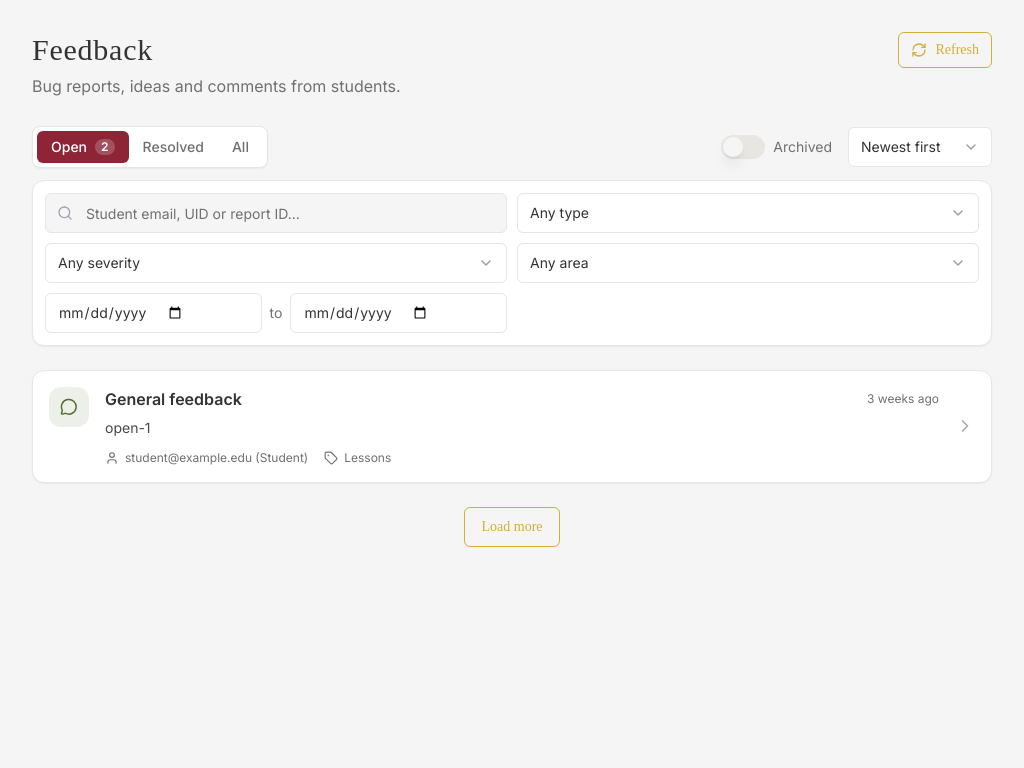
Test: the Refresh button reloads page one even after "Load more"
The width and height of the screenshot is (1024, 768).
Expected: the text "open-1" is shown, [105,419,150,436]
Click the button "Load more". click: [512, 527]
box: [464,507,560,547]
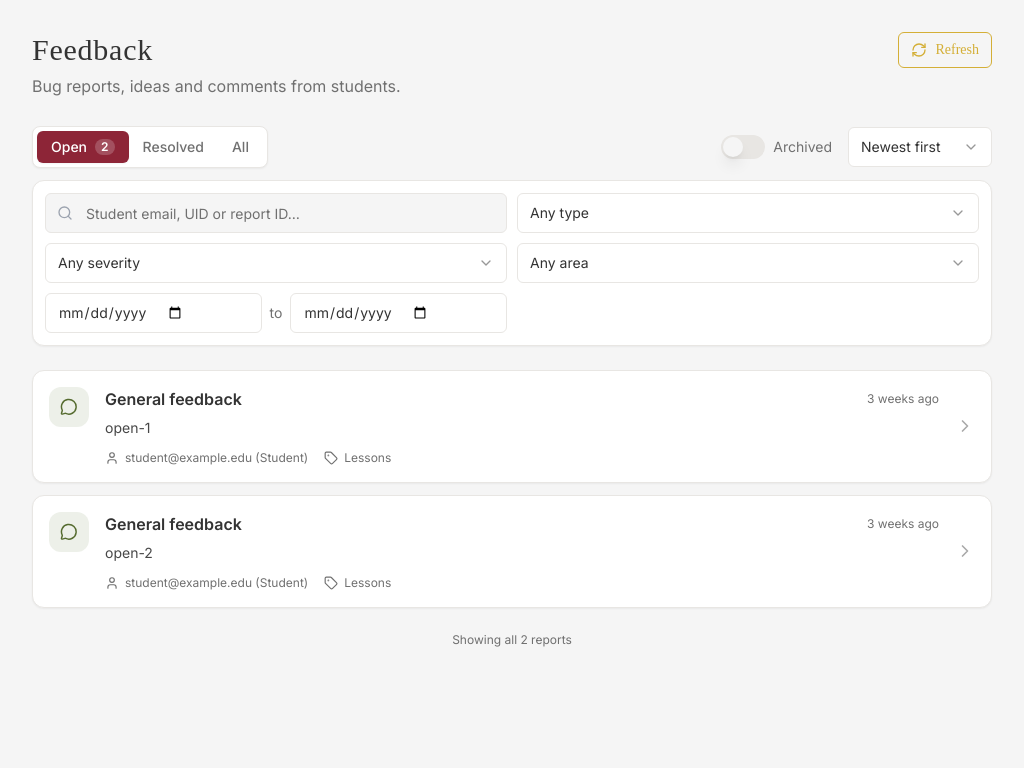
Expected: the text "open-2" is shown, [105,544,153,561]
Click the button "Refresh". click: [945, 50]
box: [898,32,992,68]
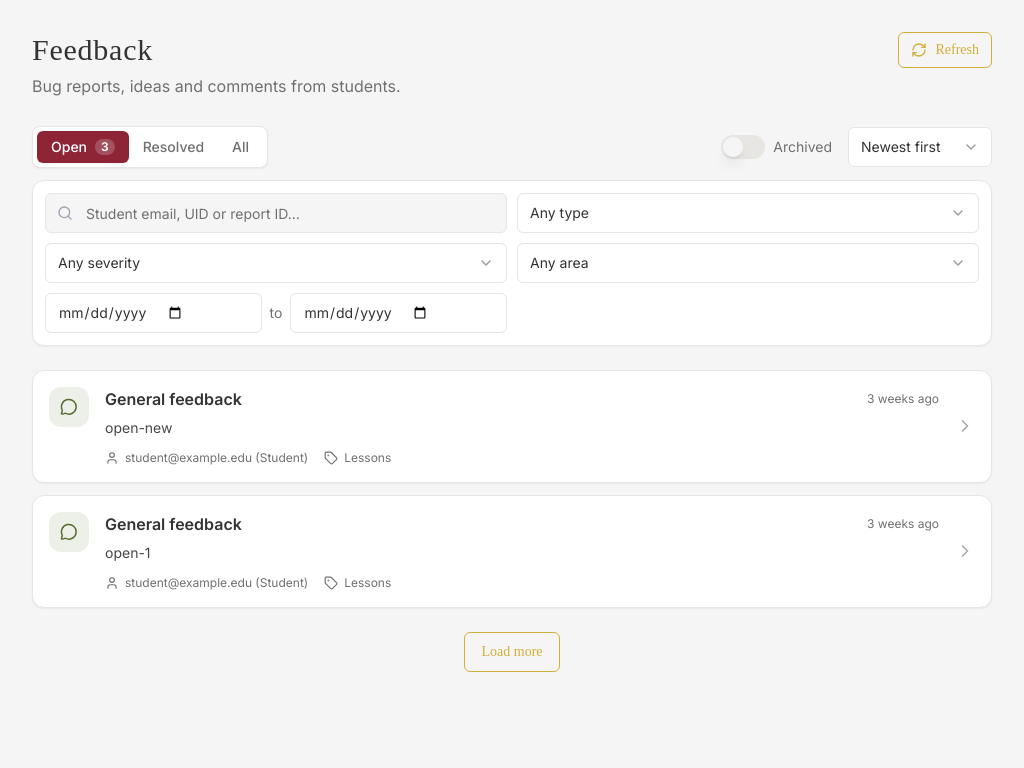
Expected: the text "open-new" is shown, [105,419,172,436]
Expected: the link "open-2" is gone
